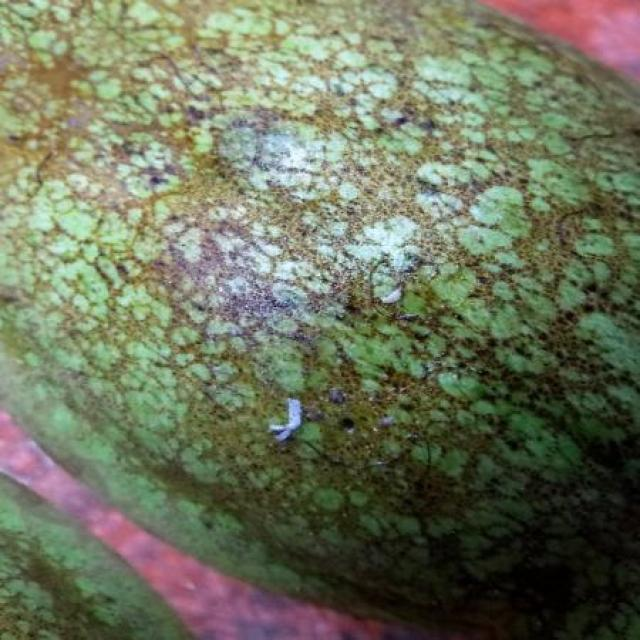Scab: (0, 0, 640, 640), (0, 476, 192, 640)
